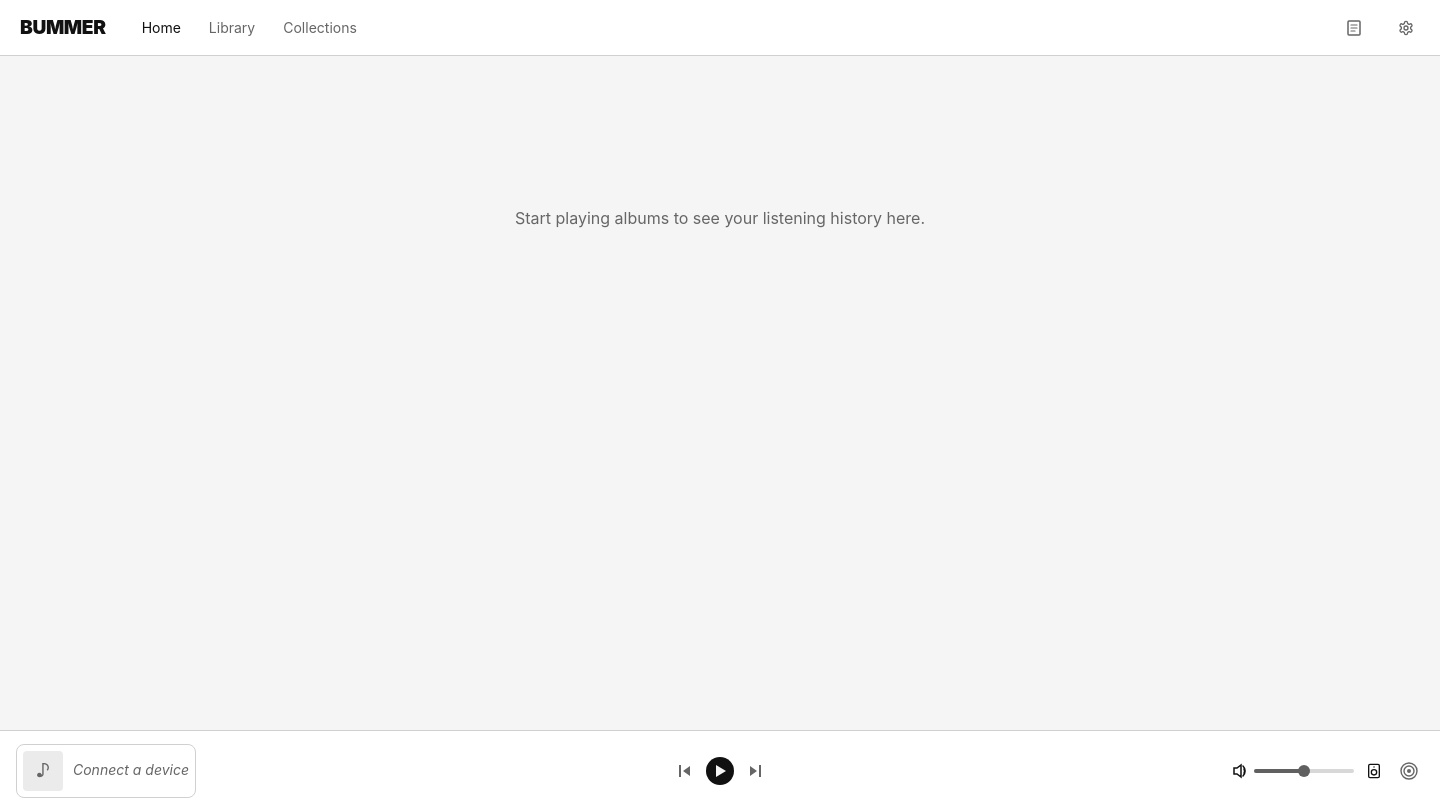
Test: App — localStorage cache + syncing pulse › renders albums immediately from localStorage cache without showing loading screen
This screenshot has width=1440, height=810.
# Default view is now 'home', switch to Albums to see cached albums
Click the button "Library".
click(232, 28)  # box [197,12,267,44]
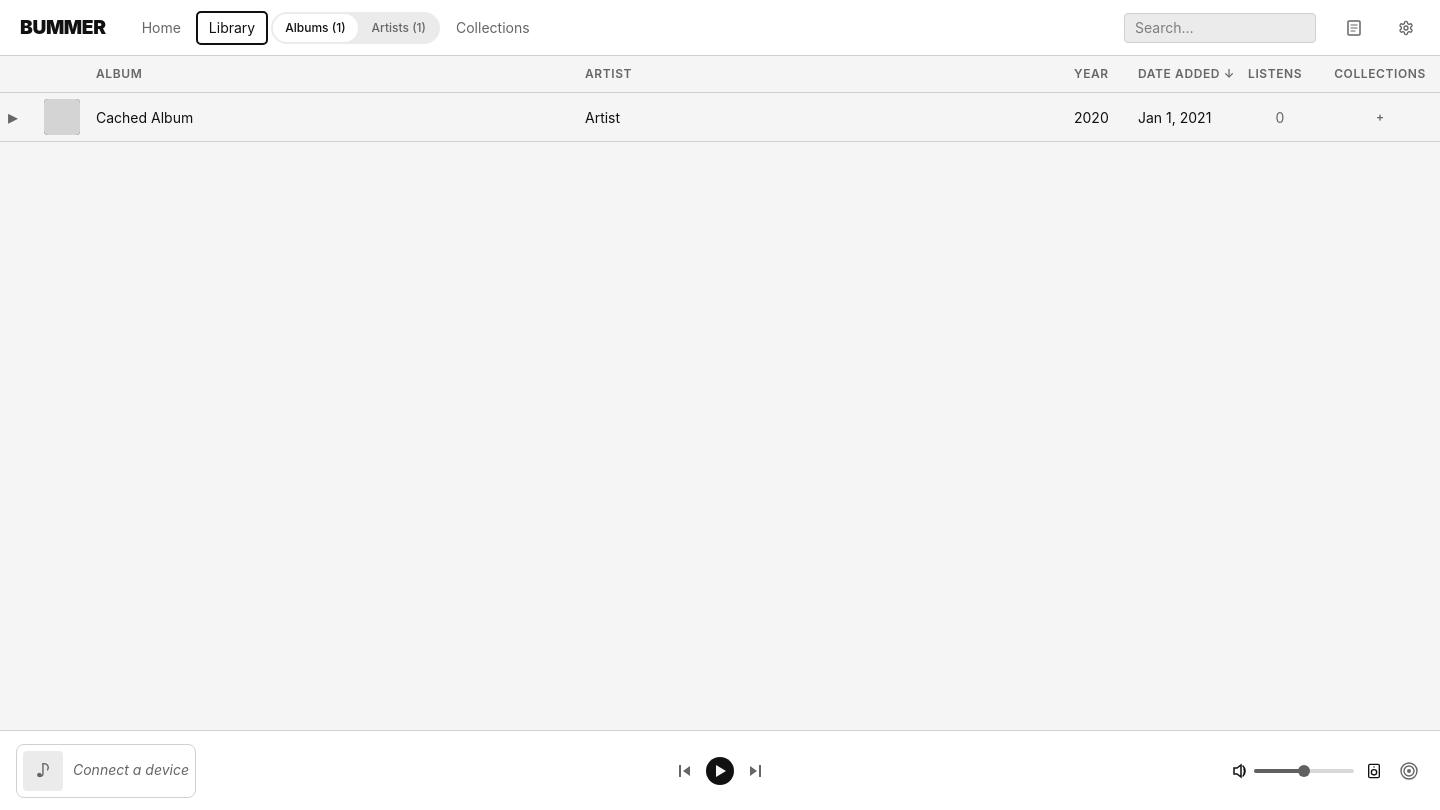
Check: the text "Cached Album" is shown, box [88,92,577,142]
